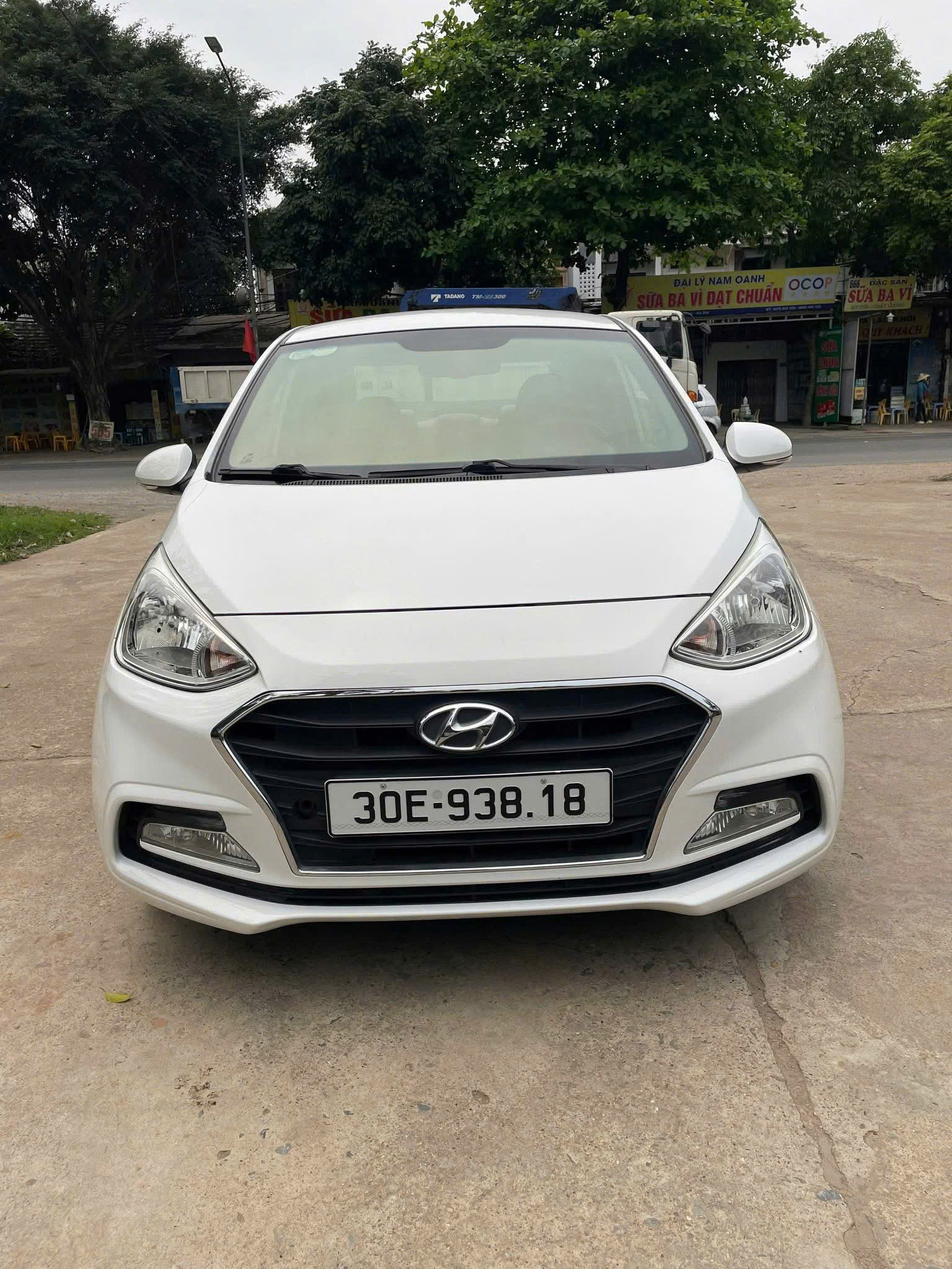Bien-so: (325, 773, 618, 836)
